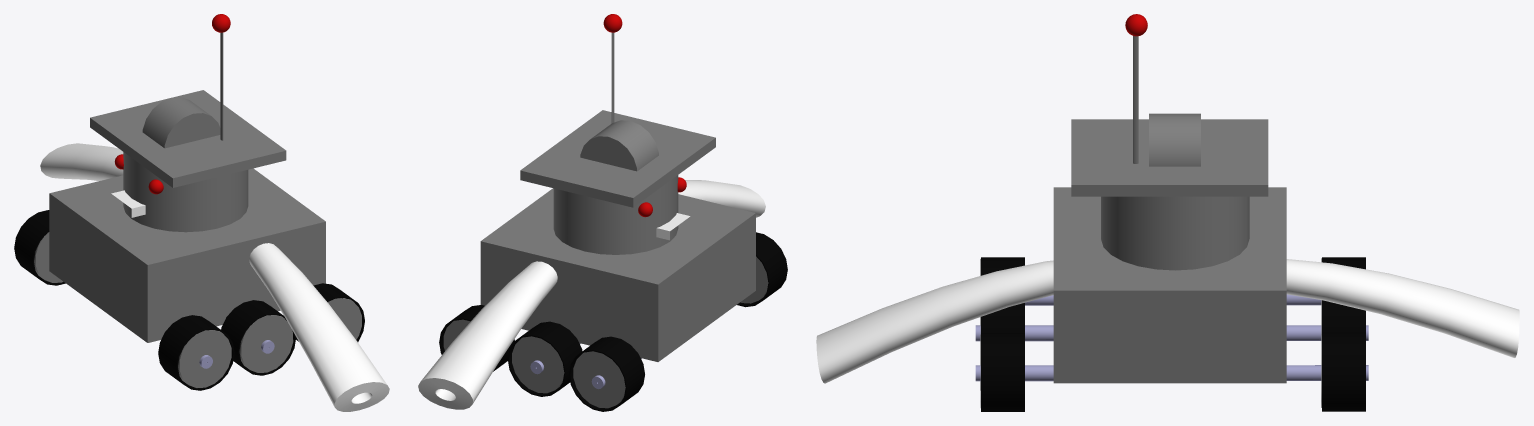
The model's file is robot.gltf.
3 renders of one model, left to right at view 1: azimuth 30°, elevation 25°; view 2: azimuth 150°, elevation 25°; view 3: azimuth 270°, elevation 25°, orthographic. The views are drawn at different scales.
Parts seen in each view (by area): view 1: Box001, Tube002, Box002, Cone001, Tube001, Tube003, Cylinder006, Cylinder004, Tube012, Tube009, Tube010, Cylinder001 (+4 smaller); view 2: Box001, Box002, Tube003, Cone001, Tube001, Cylinder003, Cylinder005, Tube010, Tube007, Tube002, Tube012, Tube006 (+4 smaller); view 3: Box001, Box002, Tube002, Tube003, Cone001, Tube006, Tube004, Tube001, Tube007, Tube005, Tube008, Tube009 (+1 smaller).
Boxes of the visible parts, x1=… form: Box001: x1=49, y1=168, x2=325, y2=342; Tube002: x1=249, y1=243, x2=389, y2=411; Box002: x1=90, y1=90, x2=286, y2=187; Cone001: x1=123, y1=152, x2=248, y2=232; Tube001: x1=142, y1=97, x2=220, y2=148; Tube003: x1=40, y1=143, x2=123, y2=180; Cylinder006: x1=178, y1=330, x2=231, y2=387; Cylinder004: x1=239, y1=315, x2=293, y2=372; Tube012: x1=158, y1=315, x2=234, y2=390; Tube009: x1=221, y1=300, x2=296, y2=375; Tube010: x1=14, y1=210, x2=65, y2=285; Cylinder001: x1=327, y1=298, x2=361, y2=339; Box001: x1=480, y1=188, x2=755, y2=361; Box002: x1=520, y1=110, x2=715, y2=207; Tube003: x1=418, y1=261, x2=557, y2=409; Cone001: x1=553, y1=175, x2=678, y2=254; Tube001: x1=580, y1=120, x2=658, y2=171; Cylinder003: x1=512, y1=336, x2=564, y2=393; Cylinder005: x1=573, y1=351, x2=625, y2=408; Tube010: x1=569, y1=336, x2=644, y2=411; Tube007: x1=507, y1=321, x2=582, y2=396; Tube002: x1=678, y1=180, x2=765, y2=217; Tube012: x1=737, y1=232, x2=787, y2=307; Tube006: x1=439, y1=305, x2=514, y2=371; Box001: x1=1053, y1=187, x2=1286, y2=383; Box002: x1=1071, y1=119, x2=1268, y2=196; Tube002: x1=816, y1=260, x2=1053, y2=383; Tube003: x1=1286, y1=259, x2=1519, y2=357; Cone001: x1=1101, y1=196, x2=1249, y2=270; Tube006: x1=1322, y1=332, x2=1365, y2=411; Tube004: x1=981, y1=333, x2=1024, y2=411; Tube001: x1=1149, y1=113, x2=1200, y2=166; Tube007: x1=1322, y1=300, x2=1365, y2=332; Tube005: x1=975, y1=365, x2=1368, y2=381; Tube008: x1=975, y1=325, x2=1368, y2=341; Tube009: x1=981, y1=303, x2=1024, y2=332.
Size of the model in its own units: 1.09 by 1.69 by 2.96.
